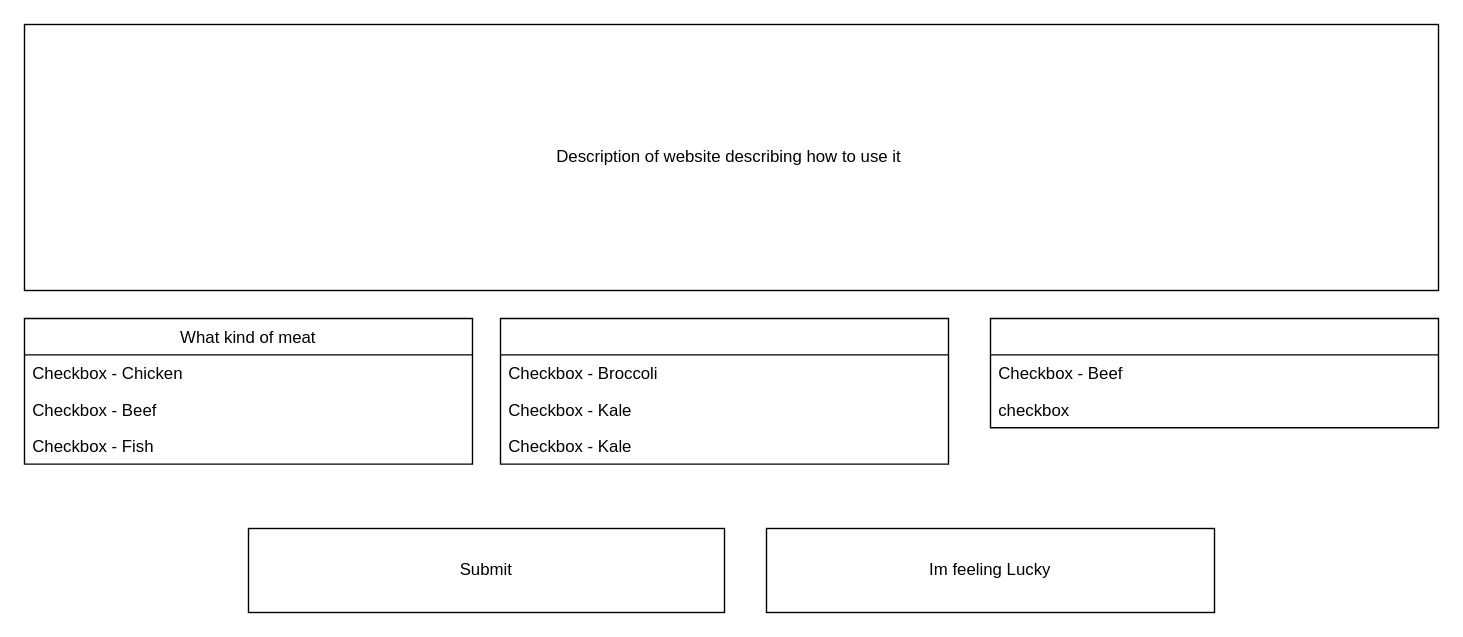
Image size: 1463x637. Some labels were removed from this diagram. The box of each missing label's shape, as (x1, y1, x2, y2) in pixels:
I CANT EAT THESE OR I DIE: (989, 317, 1438, 428)
Veggie: (499, 317, 948, 464)
